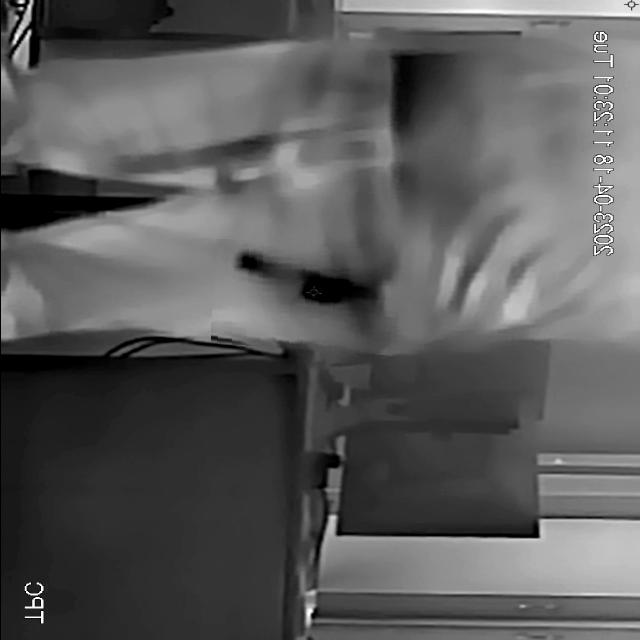Weapon: (212, 242, 398, 353)
